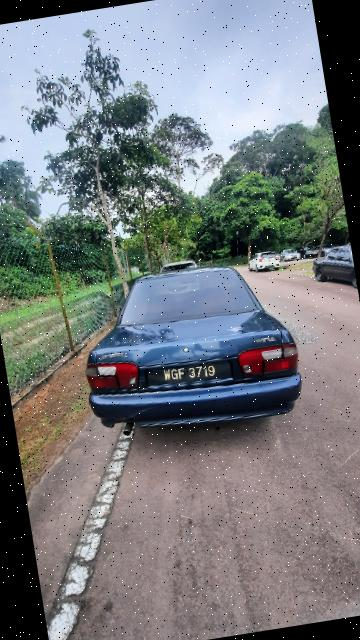License_Plate: (141, 351, 237, 395)
car: (69, 250, 314, 455)
